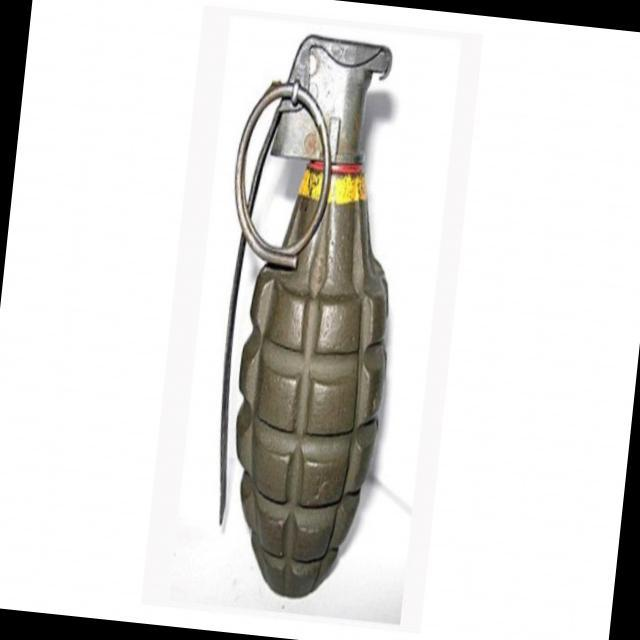grenade: (187, 16, 425, 612)
